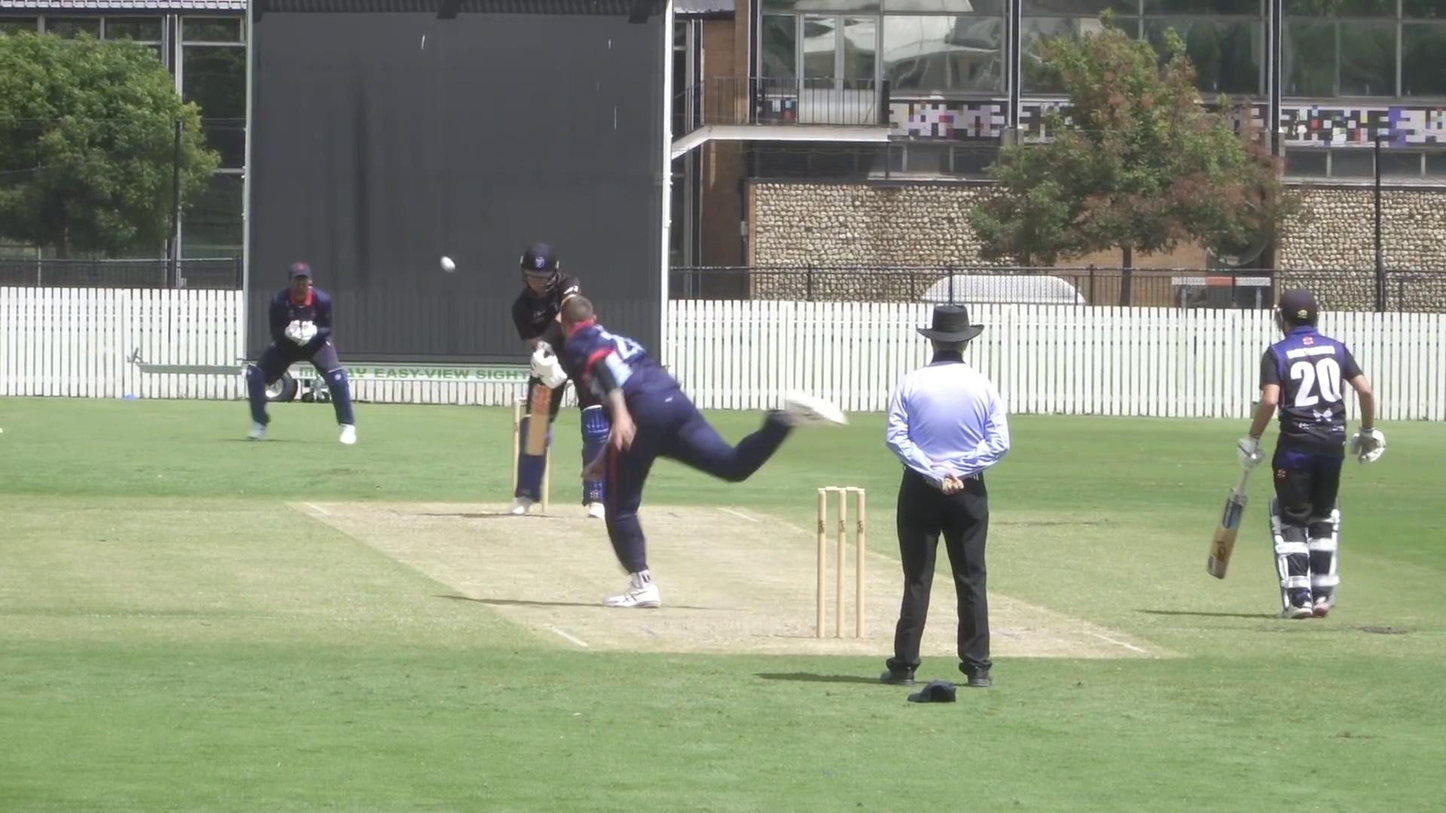ball: (437, 254, 459, 277)
